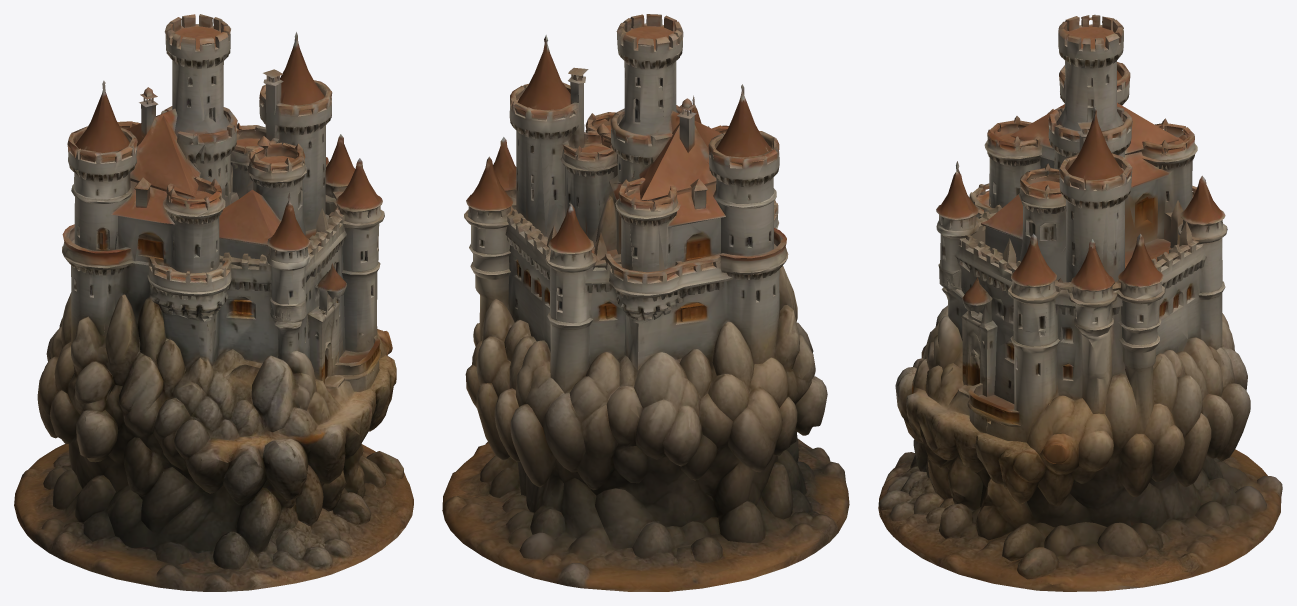
Rendered from castelo-rocha.glb.
3 renders of one model, left to right at view 1: azimuth 30°, elevation 25°; view 2: azimuth 150°, elevation 25°; view 3: azimuth 270°, elevation 25°, orthographic. The views are drawn at different scales.
Visible parts, largest first — view 1: material; view 2: material; view 3: material.
Boxes of the visible parts, x1,y1,x2,y2 form: material: (14, 14, 413, 591); material: (442, 14, 849, 591); material: (878, 14, 1282, 591).
Bounding box in the file's own units: 34.31 × 45 × 34.65.
1 material, 1 textured.
